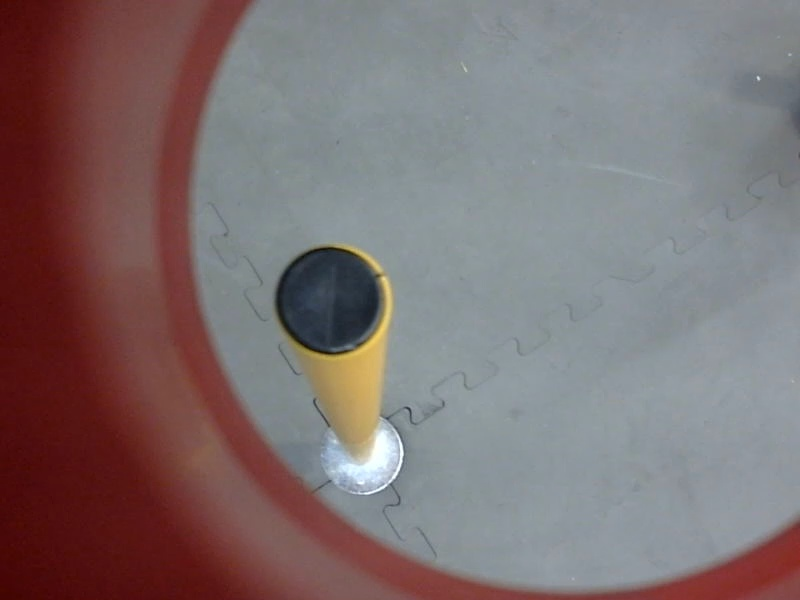tip: (269, 238, 398, 362)
